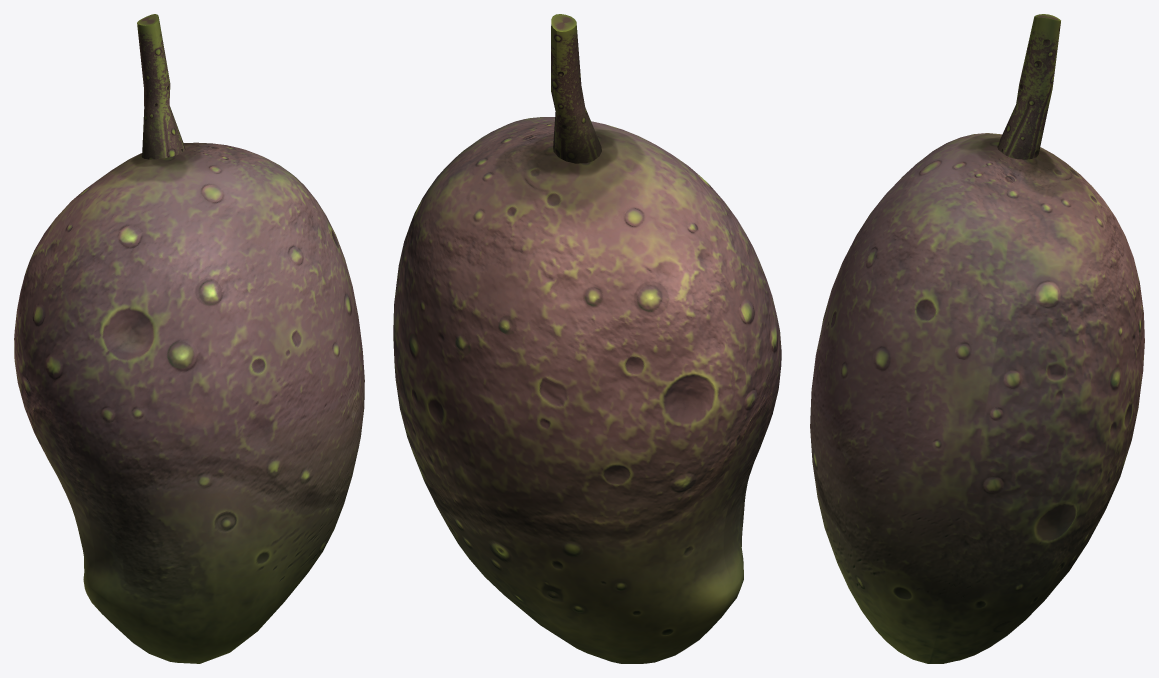
The model's file is Posa Amm.fbx.
The picture shows the model from 3 angles, left to right: view 1: azimuth 30°, elevation 25°; view 2: azimuth 150°, elevation 25°; view 3: azimuth 270°, elevation 25°; orthographic projection. The views are drawn at different scales.
Parts seen in each view (by area): view 1: posa_amm1, Posa_Amm_cat_B, Posa_Amm_cat_A; view 2: posa_amm1, Posa_Amm_cat_A, Posa_Amm_cat_B; view 3: posa_amm1, Posa_Amm_cat_B, Posa_Amm_cat_A.
Boxes of the visible parts, x1,y1,x2,y2 form: posa_amm1: (14,14,364,663); Posa_Amm_cat_B: (47,216,350,512); Posa_Amm_cat_A: (36,232,340,538); posa_amm1: (393,14,781,663); Posa_Amm_cat_A: (439,218,744,536); Posa_Amm_cat_B: (422,195,735,510); posa_amm1: (810,14,1144,663); Posa_Amm_cat_B: (810,363,1142,595); Posa_Amm_cat_A: (810,416,1134,606).
Bounding box in the file's own units: 750 × 1392 × 653.
1 material, 1 textured.
